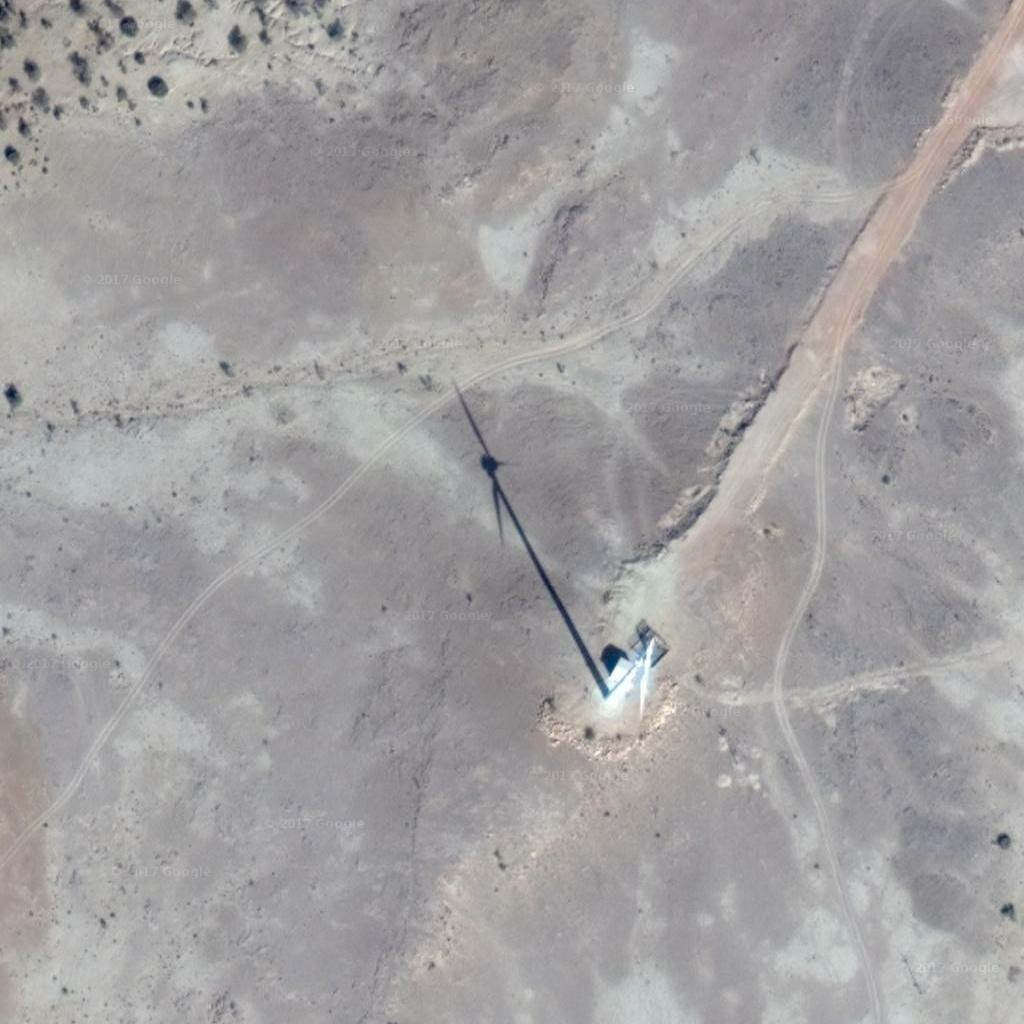Windmill: (445, 376, 613, 691)
